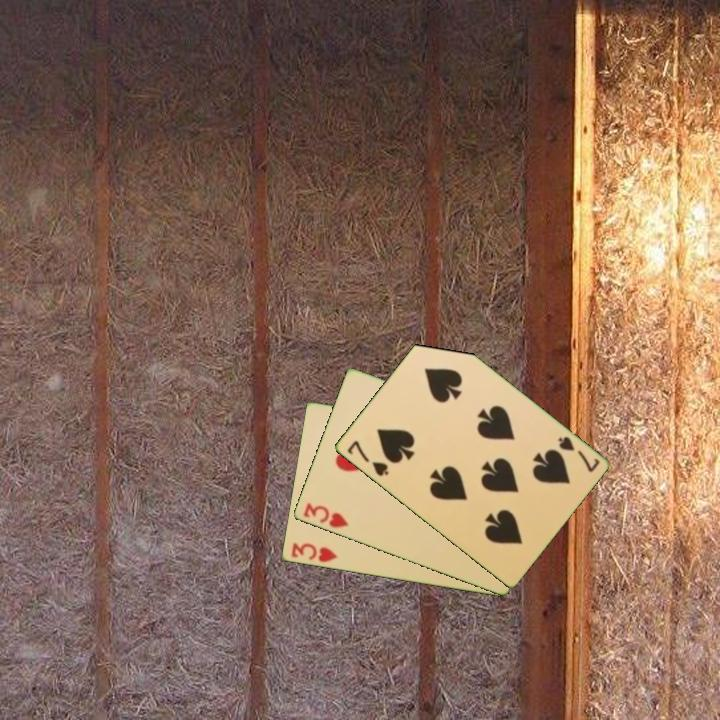3h: (299, 499, 351, 531), (287, 540, 340, 565)
7s: (343, 437, 391, 479), (554, 433, 602, 475)
